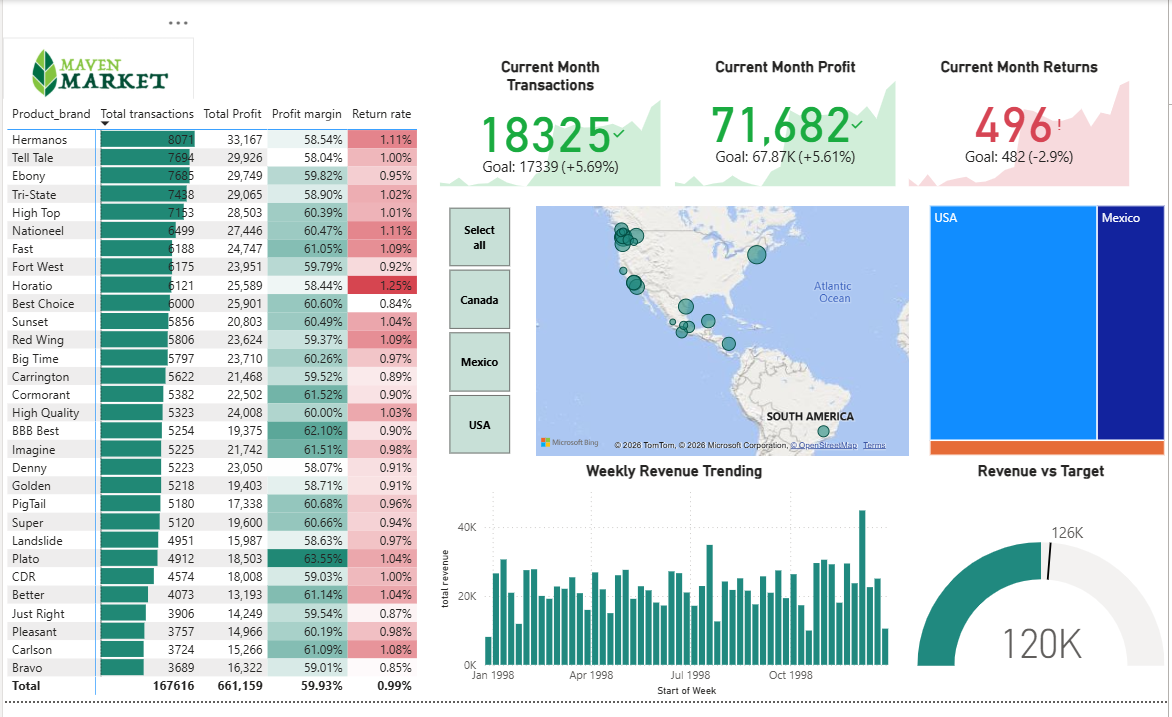

Layout of this report page (visuals, bound fields, positions):
{"tool":"powerbi","page":{"name":"Topline Performance","canvas":[1280,770],"ordinal":0},"visuals":[{"type":"image","box":[0,41.2,209.9,76.8],"z":0},{"type":"pivotTable","fields":{"Rows":["Products.product_brand"],"Values":["Transanction_Data.total transactions","Transanction_Data.Total Profit","Transanction_Data.Profit margin","Returns_data.return rate"]},"box":[0,108.4,474.8,661.4],"z":1000},{"type":"kpi","title":"Current Month Transactions","fields":{"Indicator":["Transanction_Data.Total transactions"],"TrendLine":["Calendar.Start of Month"],"Goal":["Transanction_Data.last month transactions"]},"box":[474.8,63.1,252.5,146.8],"z":2000},{"type":"kpi","title":"Current Month Profit","fields":{"TrendLine":["Calendar.Start of Month"],"Indicator":["Transanction_Data.Total Profit"],"Goal":["Transanction_Data.last month profit"]},"box":[732.1,63.1,252.5,146.8],"z":3000},{"type":"kpi","title":"Current Month Returns","fields":{"TrendLine":["Calendar.Start of Month"],"Indicator":["Returns_data.total returns"],"Goal":["Returns_data.last month returns"]},"box":[989.4,63.1,252.5,146.8],"z":4000},{"type":"map","fields":{"Category":["Stores.store_city"],"Size":["Transanction_Data.Total transactions"]},"box":[580.4,220.9,418.5,284],"z":5000},{"type":"slicer","fields":{"Values":["Stores.store_country"]},"box":[463.8,220.9,116.6,284],"z":6000},{"type":"treemap","fields":{"Group":["Stores.store_country","Stores.store_state","Stores.store_city"],"Values":["Transanction_Data.Total transactions"]},"box":[1012.7,220.9,267.6,284],"z":7000},{"type":"columnChart","title":"Weekly Revenue Trending","fields":{"Y":["Transanction_Data.total revenue"],"Category":["Calendar.Start of Week"]},"box":[474.8,506.3,524.2,263.5],"z":8000},{"type":"gauge","title":"Revenue vs Target","fields":{"Y":["Transanction_Data.total revenue"],"TargetValue":["Transanction_Data.revenue target"]},"box":[999,506.3,281.3,262.1],"z":9000}]}

Visuals, with their boxes in screenshot pixels (x1, y1, x2, y2), scaled from the page's 1280x770 canvas onto the 1172x717 screenshot:
image: 0 38 192 110
pivotTable - Products.product_brand x Transanction_Data.total transactions: 0 101 435 716
"Current Month Transactions" kpi: 435 59 666 195
"Current Month Profit" kpi: 670 59 902 195
"Current Month Returns" kpi: 906 59 1137 195
map - Stores.store_city x Transanction_Data.Total transactions: 531 206 915 470
slicer - Stores.store_country: 425 206 531 470
treemap - Stores.store_country x Stores.store_state: 927 206 1171 470
"Weekly Revenue Trending" columnChart: 435 471 915 716
"Revenue vs Target" gauge: 915 471 1171 716
